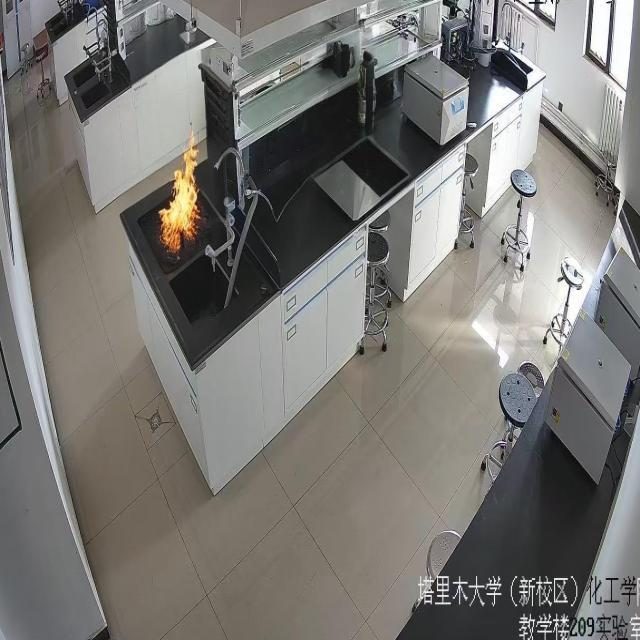smoke: (158, 126, 204, 252)
